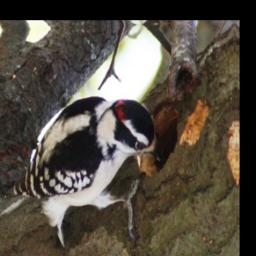Woodpecker: (1, 95, 164, 250)
